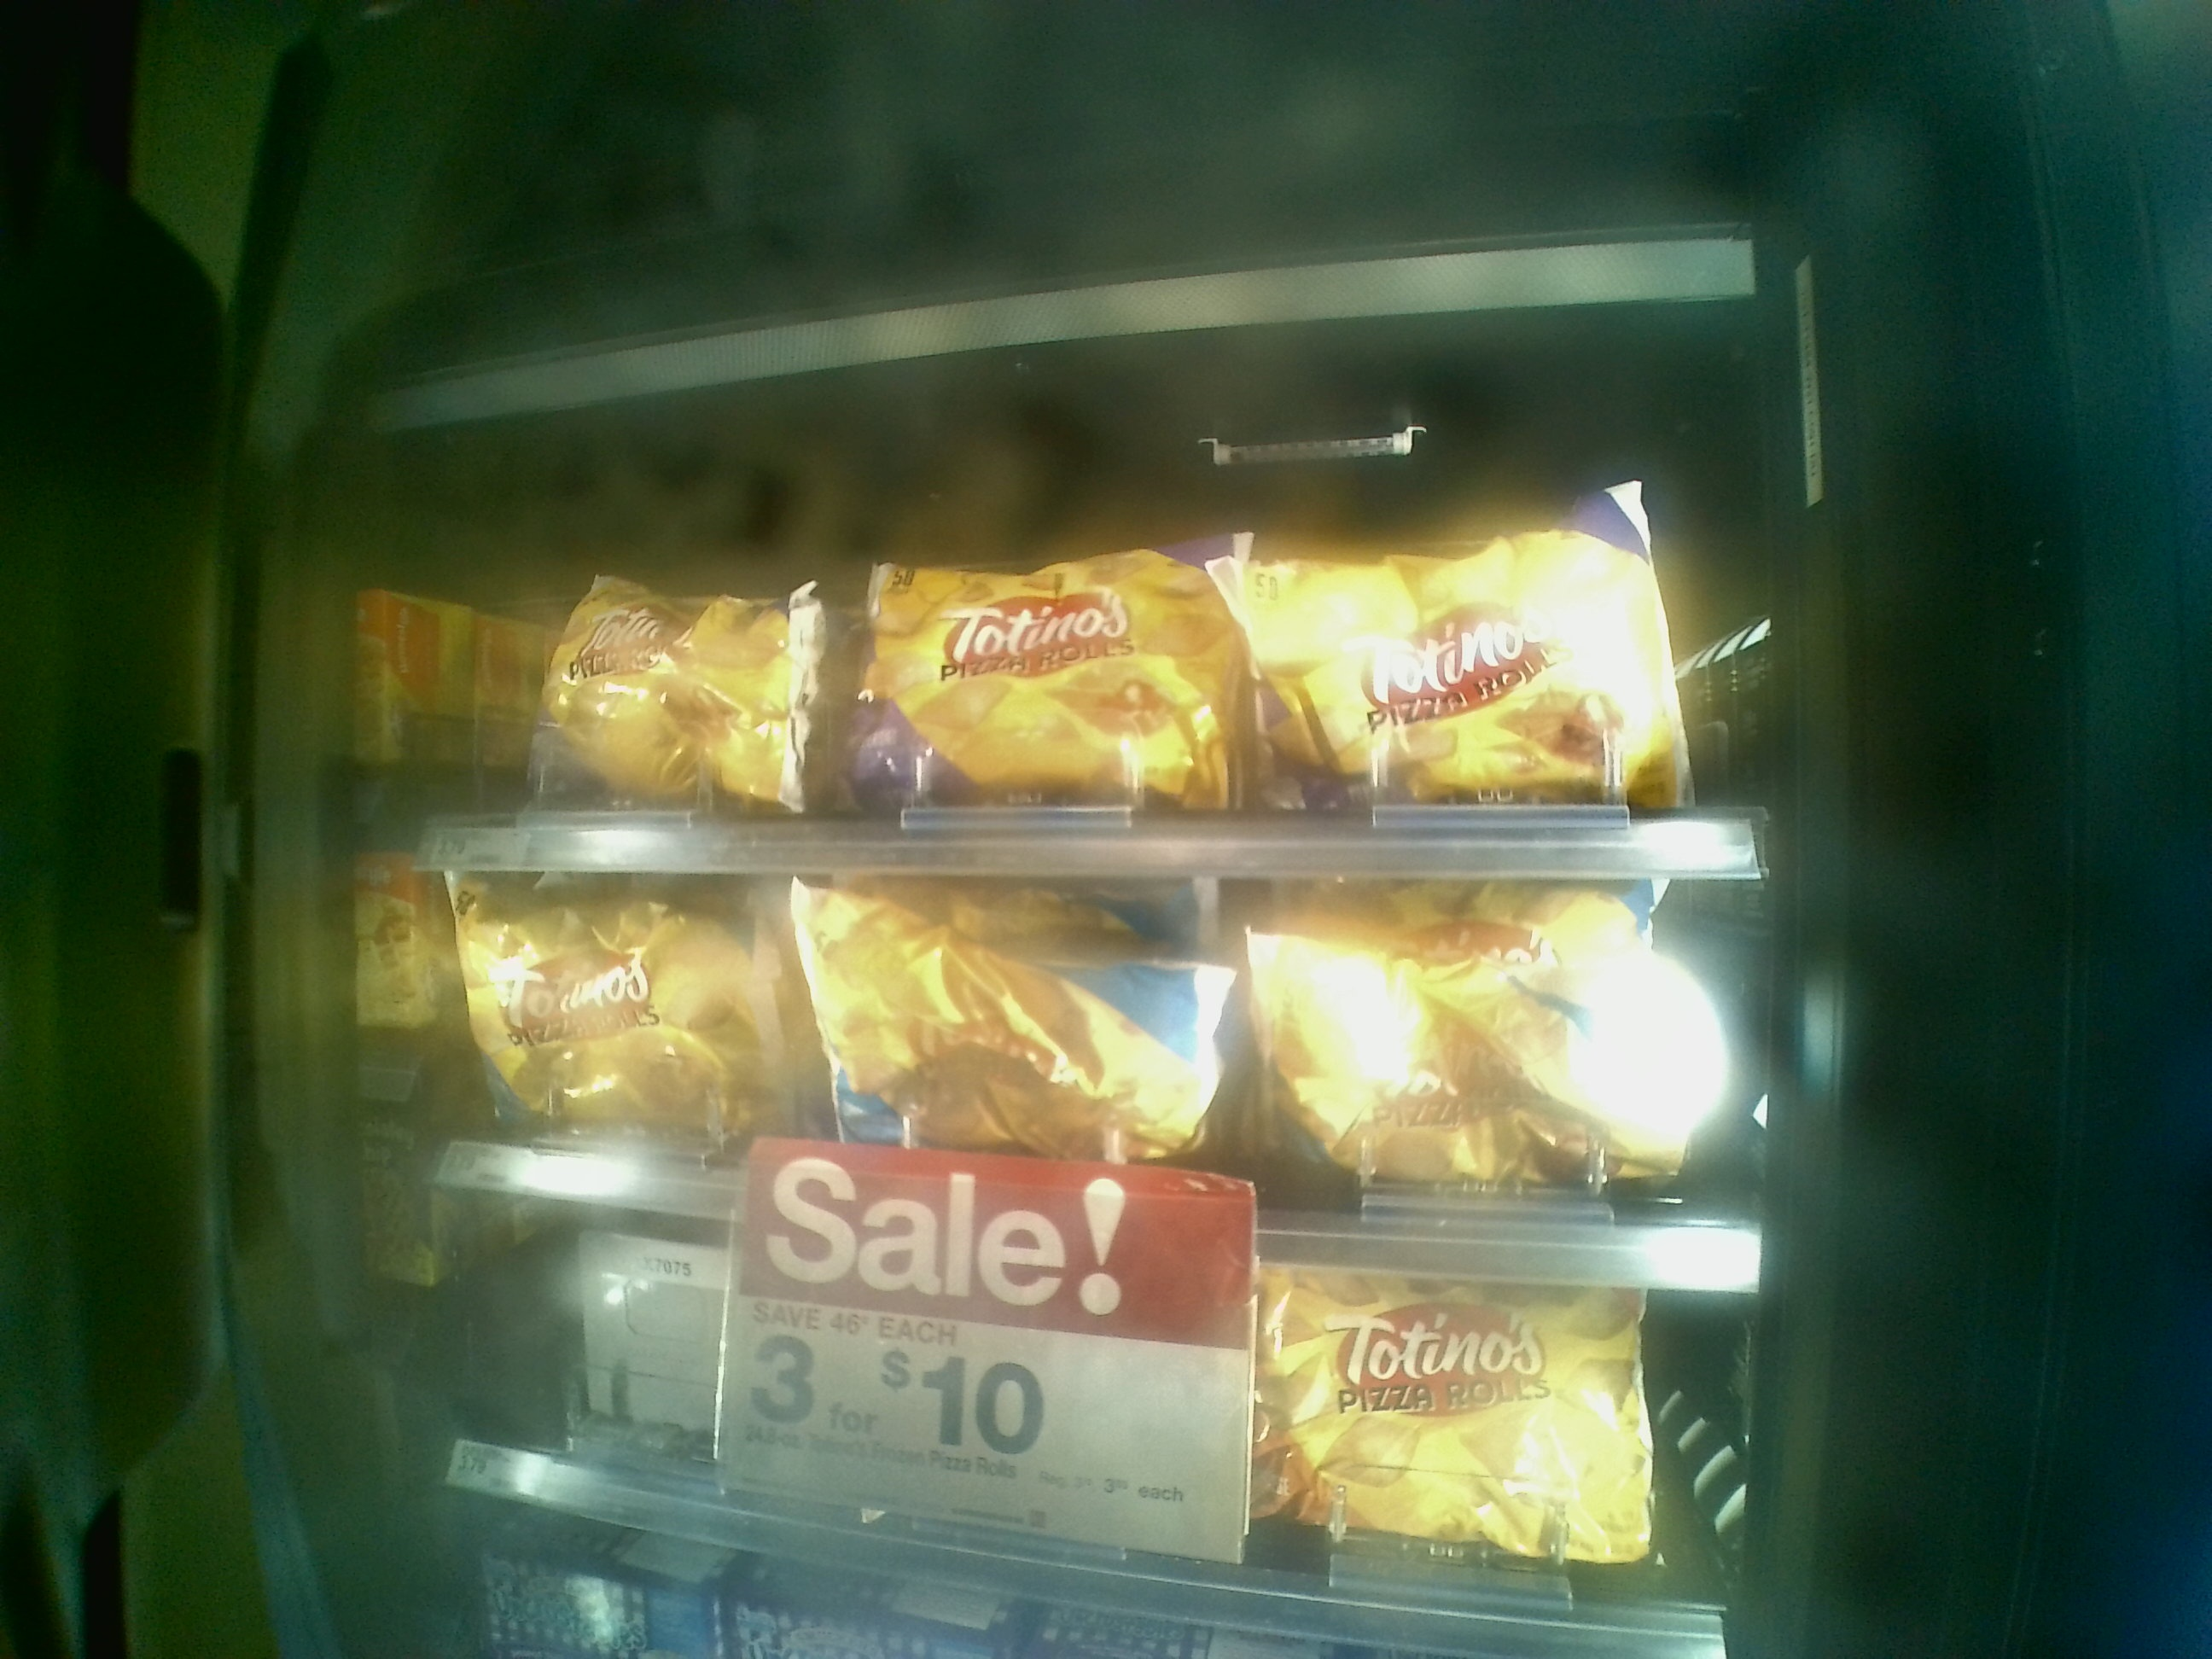shelf: (371, 863, 1773, 1295), (319, 498, 1770, 878)
